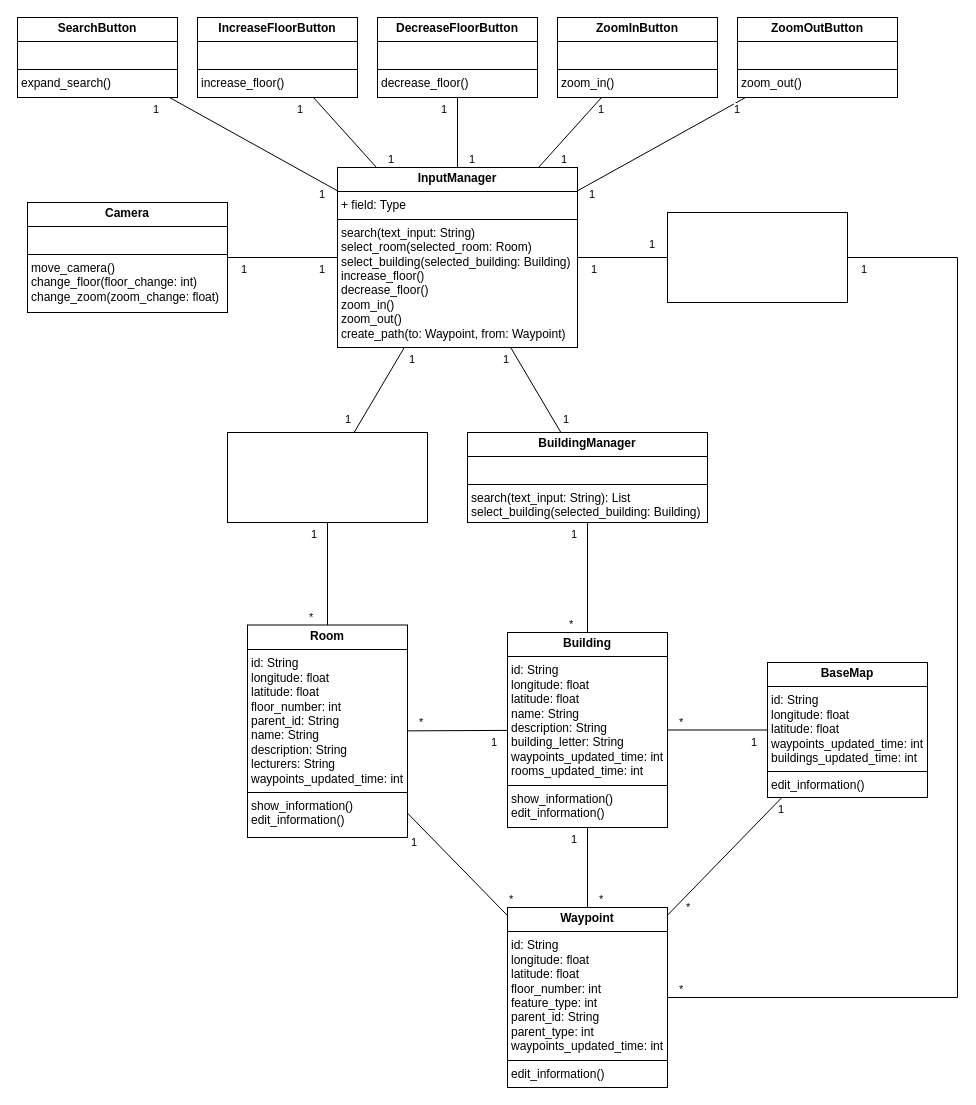
Image size: 976x1105. Some labels were removed from this diagram. The shapes that lost their labels are listed below. From the top down, each one's centre as x and y in pixels, then its label:
At point 757,257: "Pathfinder create_path(to: Waypoint, from: Waypoint): List".
At point 327,477: "RoomManager search(text_input: String): List select_room(selected_room: Room)".
